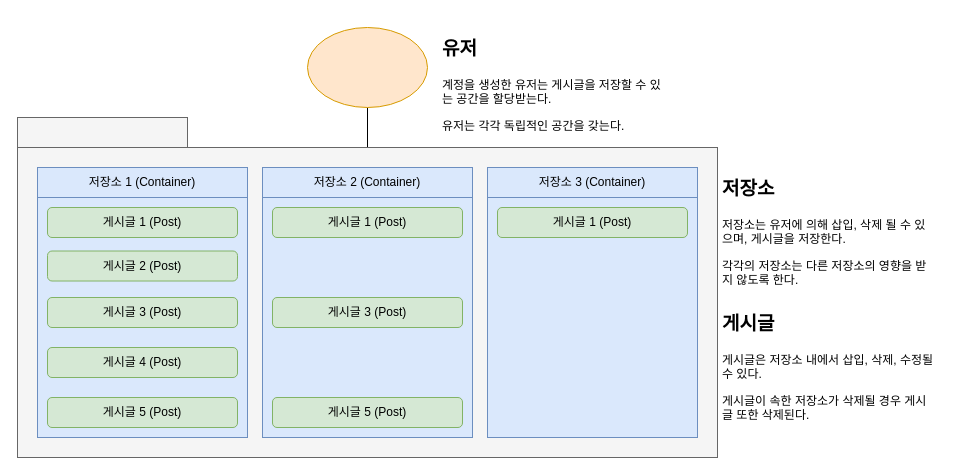
The diagram is 955 pixels wide and 475 high, and some of its shapes have lost their labels. Each missing label, with the box of its shape:
유저: (306, 26, 428, 108)
유저에게 할당된 공간: (16, 116, 188, 148)
